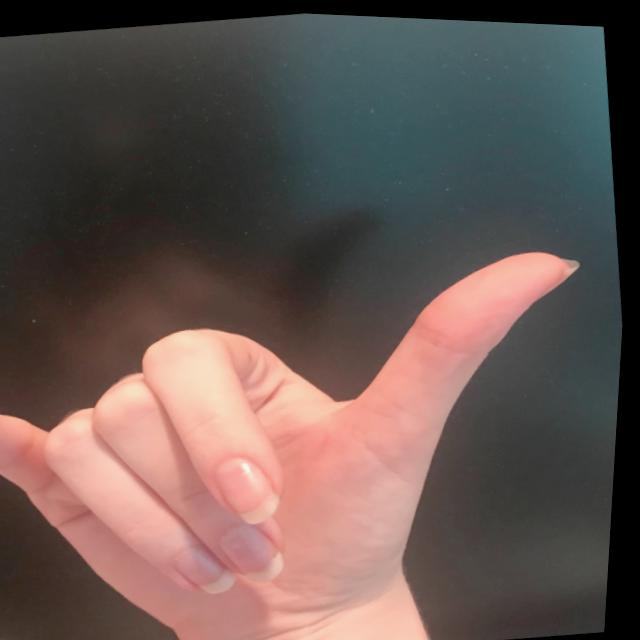Y: (0, 215, 629, 639)
